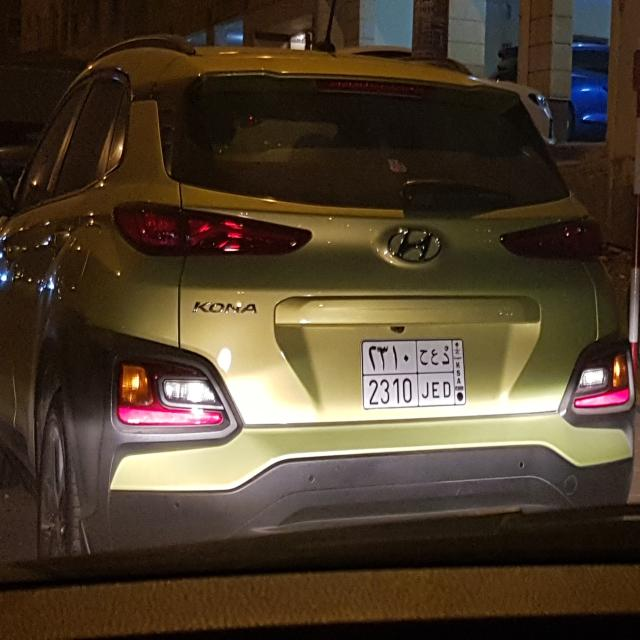license_plate: (358, 336, 469, 412)
